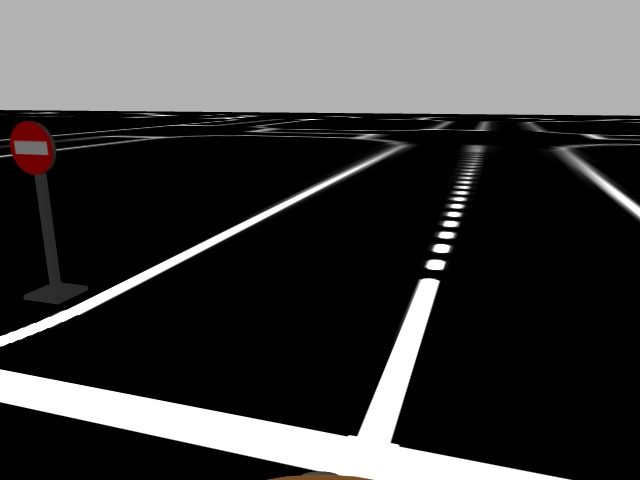prohibited: (8, 120, 59, 179)
